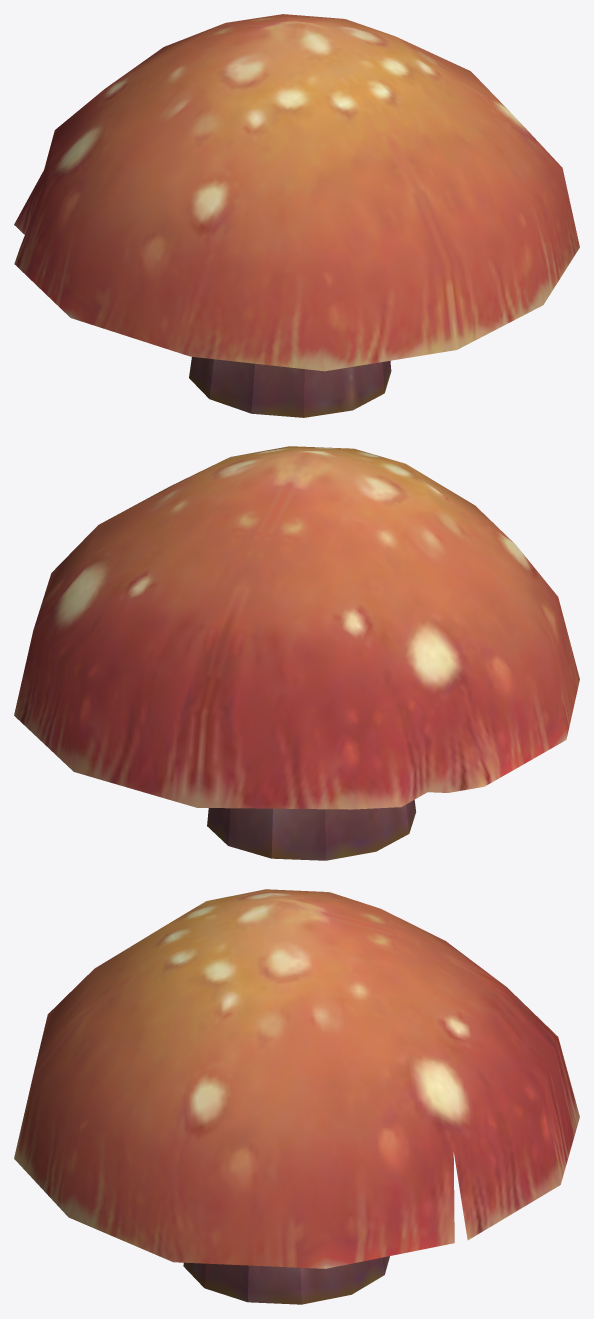
The model's file is gonghui_mogu_03 (14).fbx.
3 views of the same model, one above another, from view 1: azimuth 30°, elevation 25°; view 2: azimuth 150°, elevation 25°; view 3: azimuth 270°, elevation 25° (orthographic). The views are drawn at different scales.
Visible parts, largest first — view 1: gonghui_mogu_03 (14); view 2: gonghui_mogu_03 (14); view 3: gonghui_mogu_03 (14).
Part boxes in pixels (left/top/right/bottom): gonghui_mogu_03 (14): left=14, top=14, right=579, bottom=417; gonghui_mogu_03 (14): left=14, top=446, right=579, bottom=860; gonghui_mogu_03 (14): left=14, top=889, right=579, bottom=1304.
Size of the model in its own units: 0.2484 by 0.1732 by 0.2448.
